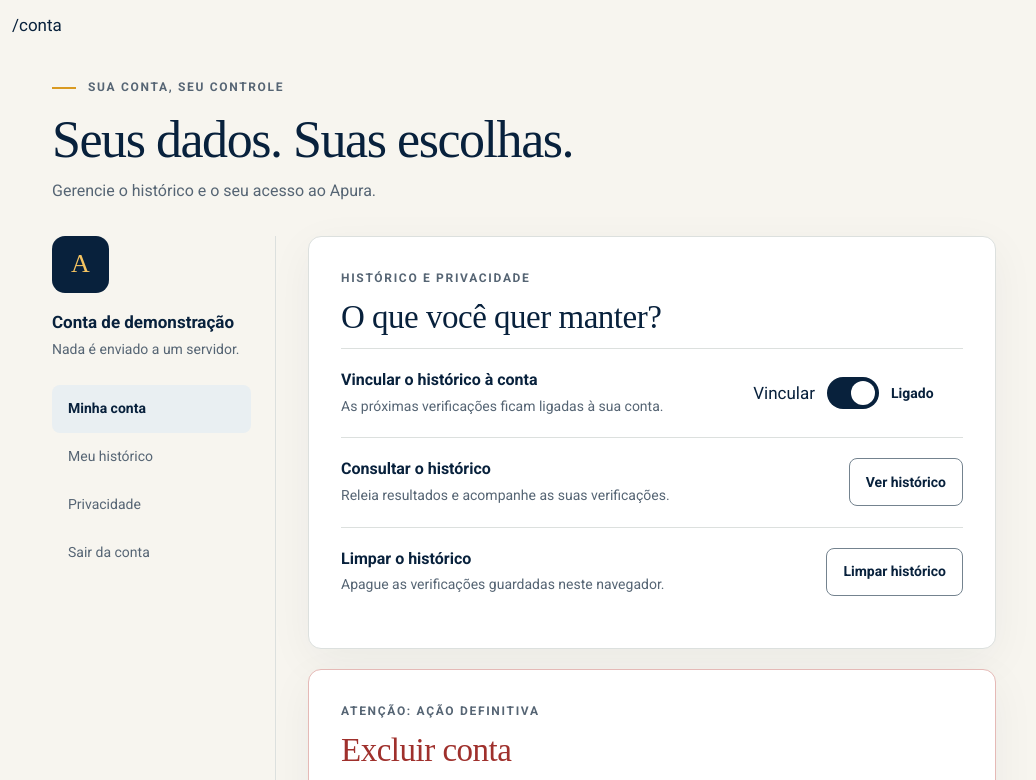
it: RF28: vincular o histórico › desligar desvincula na hora e diz que o histórico continua no navegador
What coordinates should you click on to do the following:
click the switch labelled "Vincular"
I would click on:
 (853, 393)
Its box is [827,377,879,409].
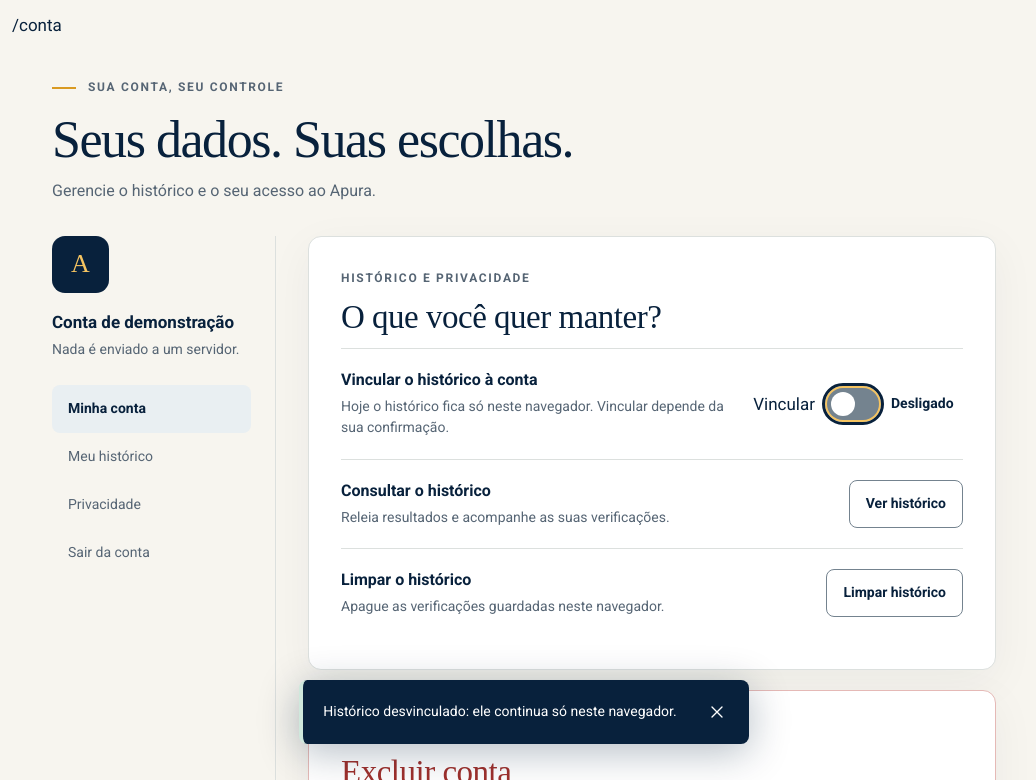
Now the text "Histórico desvinculado: ele continua só neste navegador." is shown, box [323,703,677,719]
